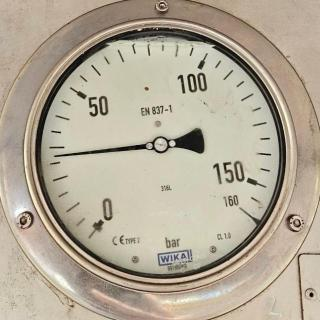gauge: (1, 2, 314, 320), (81, 203, 118, 240), (220, 188, 256, 224), (152, 134, 170, 154), (50, 150, 64, 160)
